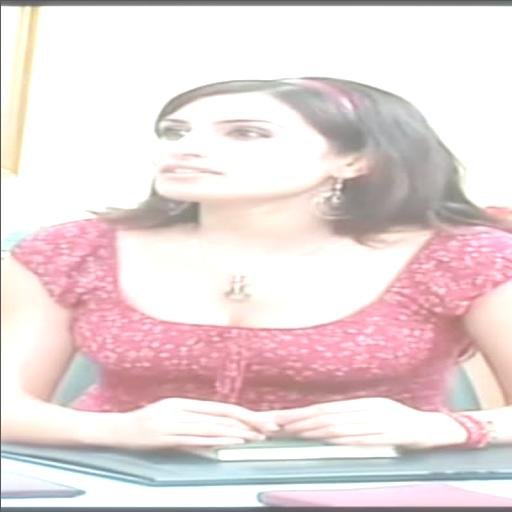Dalanda: (149, 78, 350, 202)
